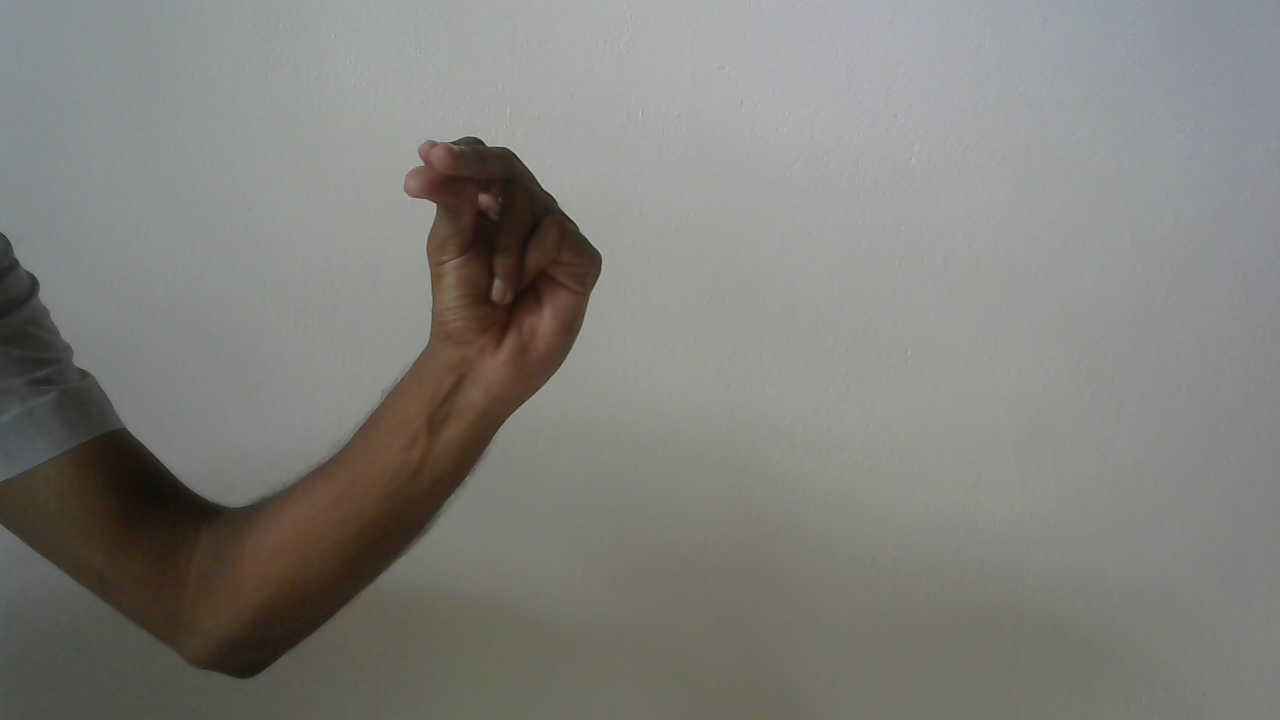no: (391, 110, 608, 424)
